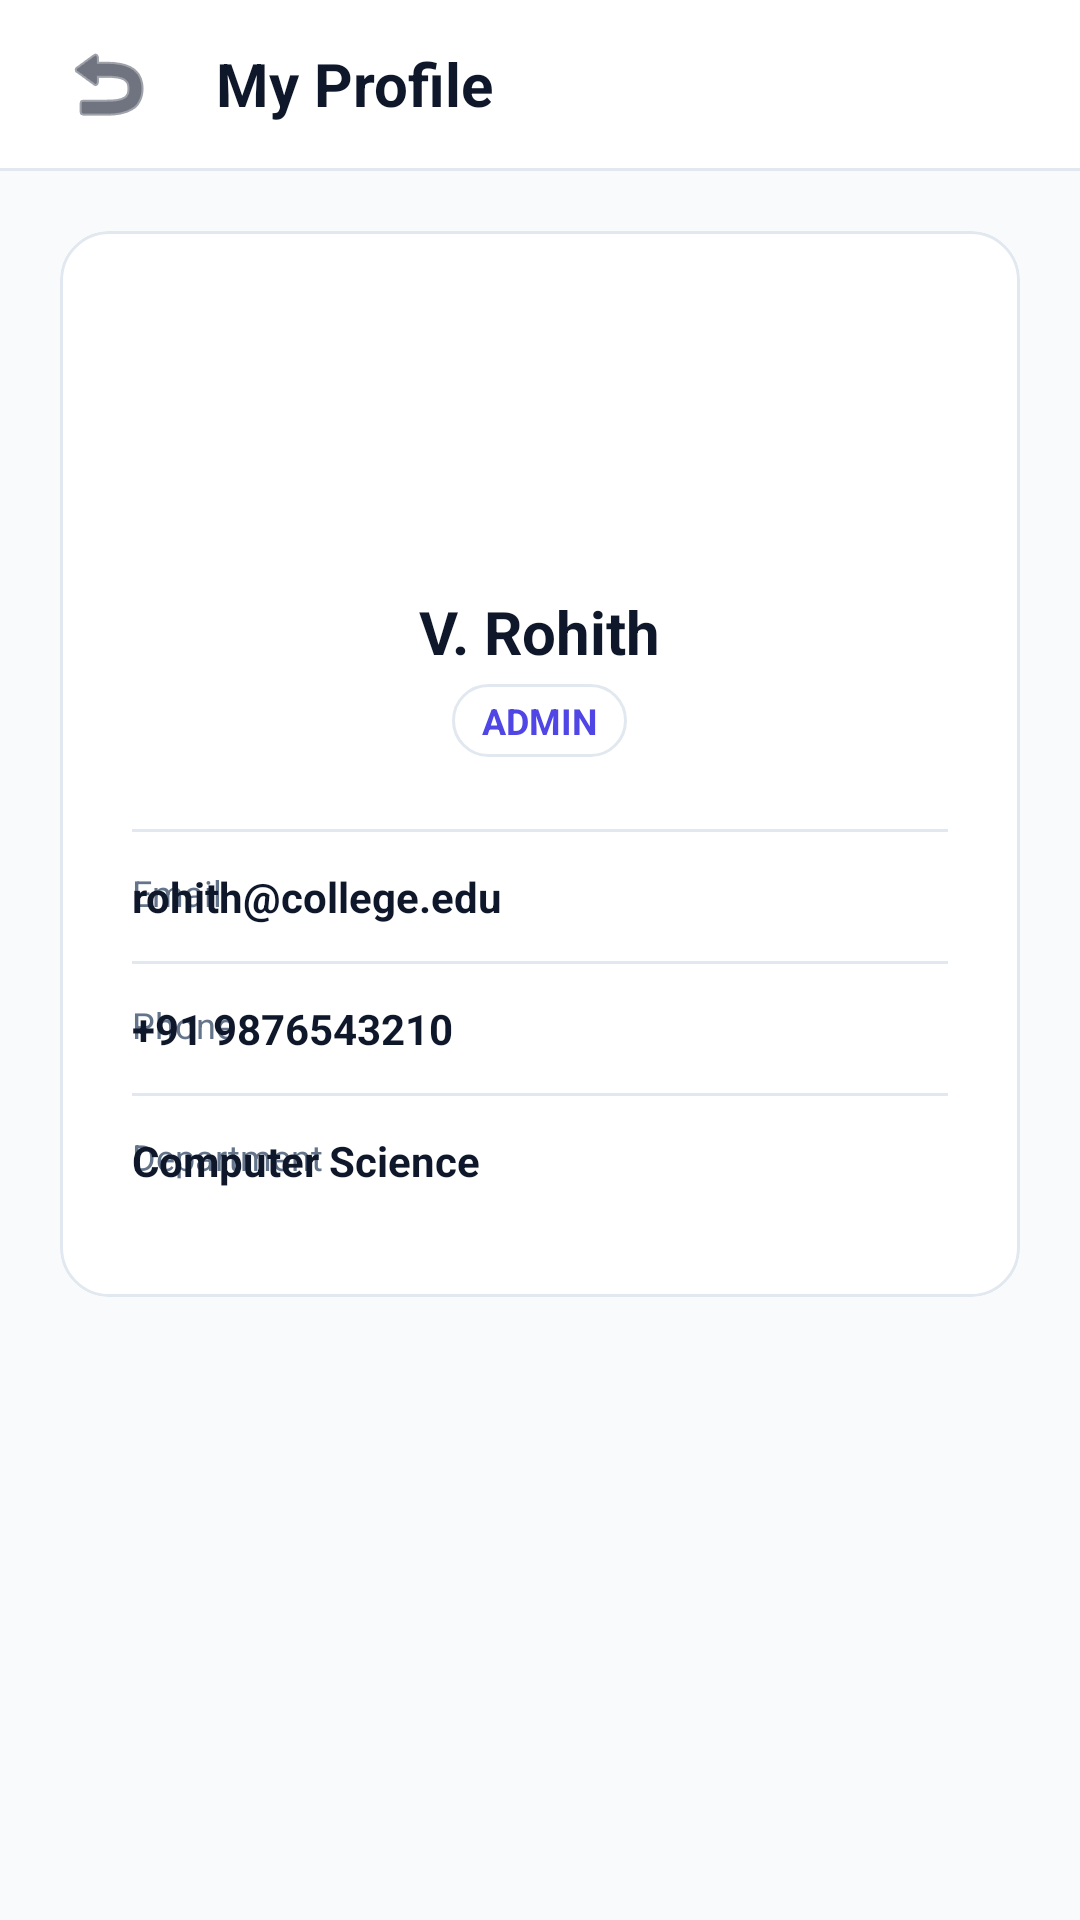

Screen size 1080×1920. Icon name, then its box in pixels as (x1, y1, x2, y2):
Back: (75, 53, 144, 116)
